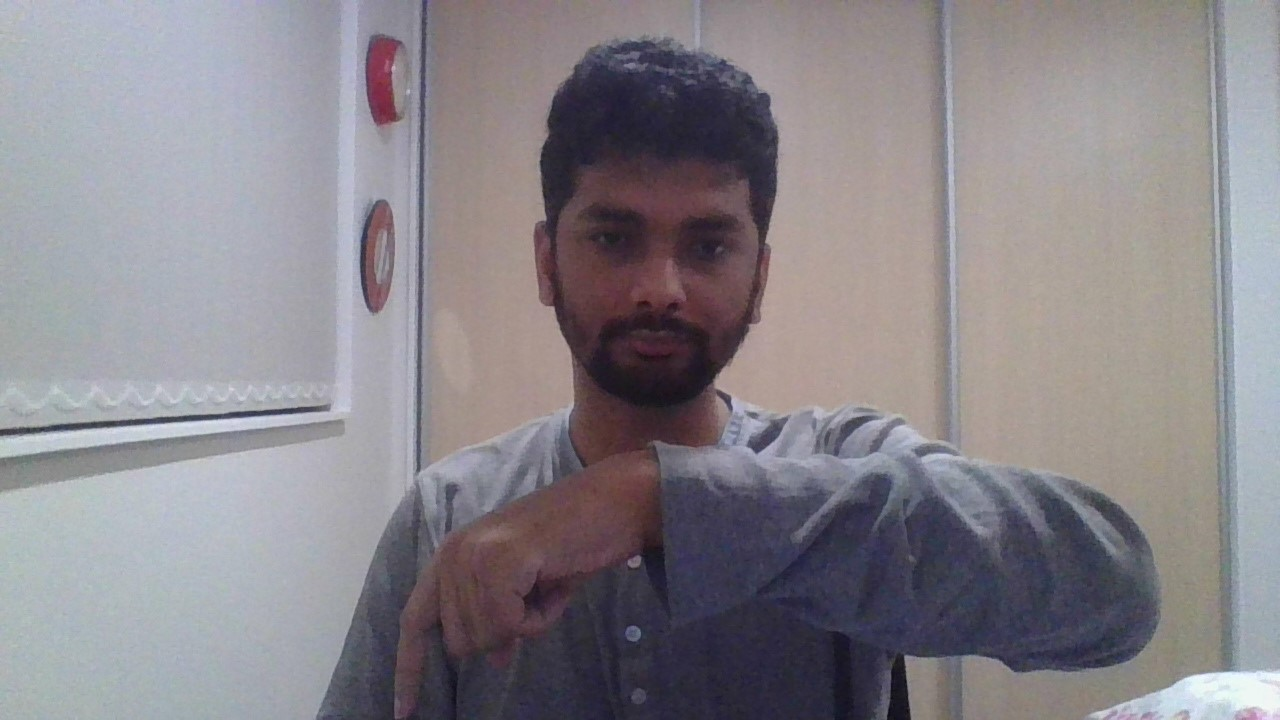below: (392, 450, 658, 720)
